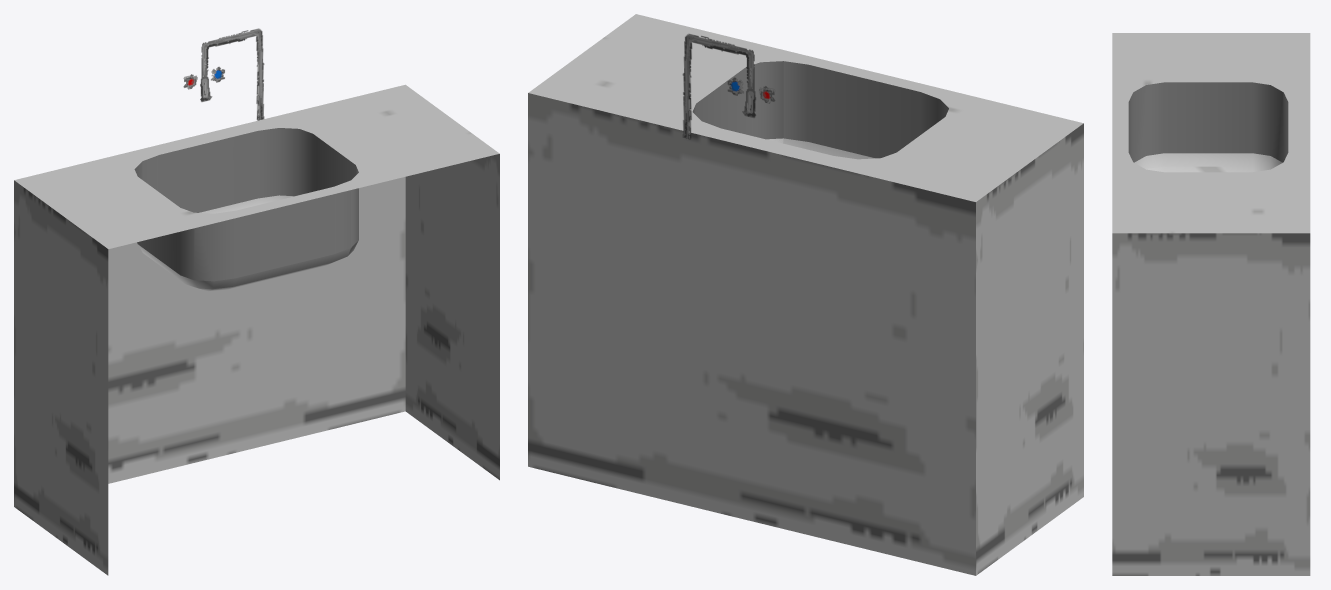
The model's file is sink.glb.
3 views of the same model, side by side, from view 1: azimuth 30°, elevation 25°; view 2: azimuth 150°, elevation 25°; view 3: azimuth 270°, elevation 25° (orthographic). The views are drawn at different scales.
Visible parts, largest first — view 1: Plane.021, Plane.001, Tap; view 2: Plane.021, Plane.001, Tap; view 3: Plane.021, Plane.001.
Boxes of the visible parts, x1,y1,x2,y2 form: Plane.021: [14, 84, 499, 575]; Plane.001: [134, 128, 358, 290]; Tap: [183, 28, 264, 120]; Plane.021: [528, 14, 1083, 575]; Plane.001: [692, 61, 948, 158]; Tap: [682, 34, 775, 139]; Plane.021: [1112, 33, 1310, 575]; Plane.001: [1128, 82, 1288, 172].
Size of the model in its own units: 1.07 by 1.11 by 0.4617.
Materials: 2 (1 with a texture image).
